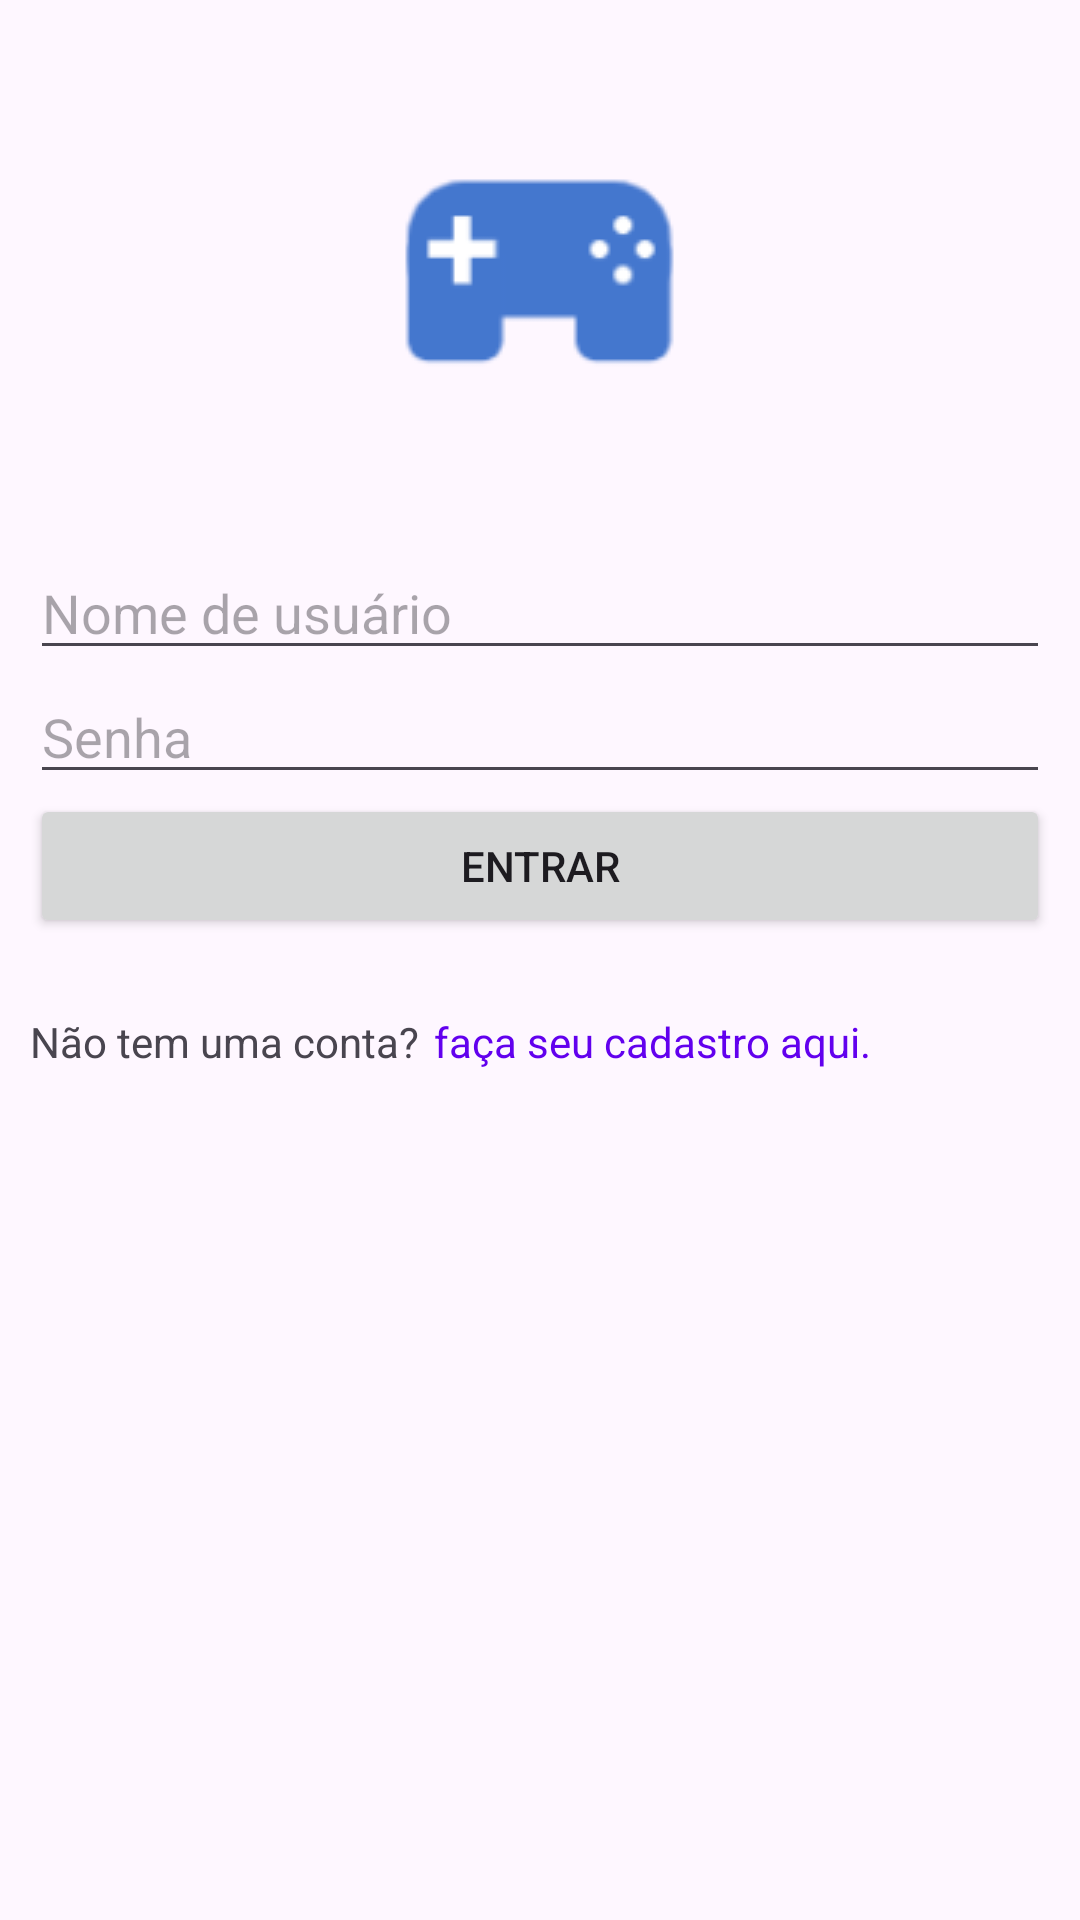

Point at icon controls on the screen. Image size 1080px x 1920px, points as [x,y].
Icone do app: [539,271]
